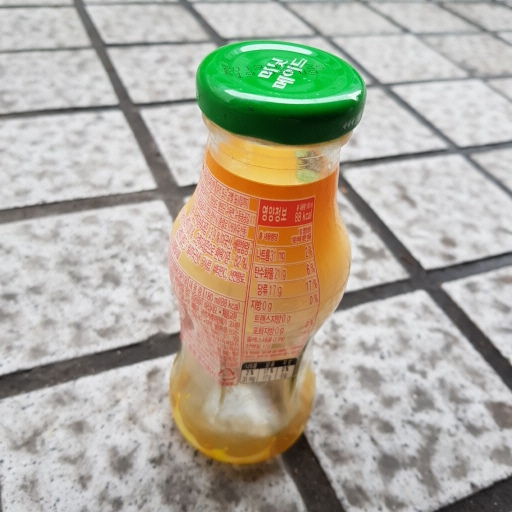Glass_4: (160, 41, 365, 469)
